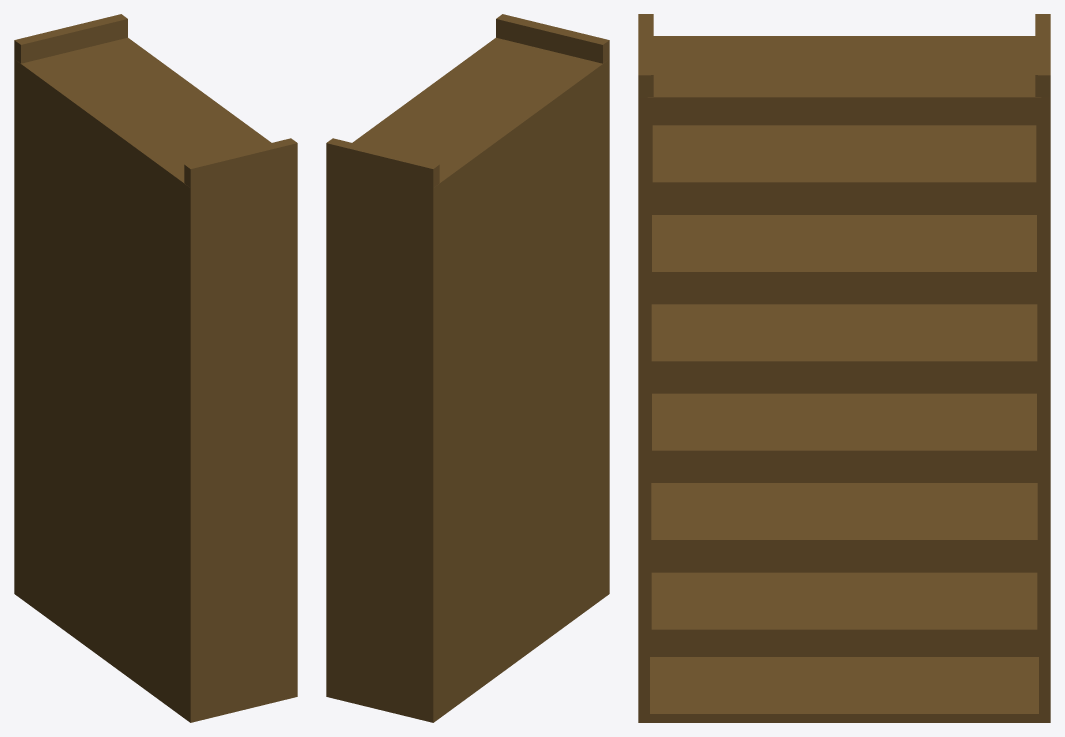
The model's file is bibliotheque.fbx.
3 views of the same model, side by side, from view 1: azimuth 30°, elevation 25°; view 2: azimuth 150°, elevation 25°; view 3: azimuth 270°, elevation 25° (orthographic). The views are drawn at different scales.
Parts seen in each view (by area): view 1: Bibliotheque; view 2: Bibliotheque; view 3: Bibliotheque.
Part boxes in pixels (x1,y1,x2,y2): Bibliotheque: (14,14,297,722); Bibliotheque: (326,14,609,722); Bibliotheque: (638,14,1050,722).
Size of the model in its own units: 122 by 601 by 347.
